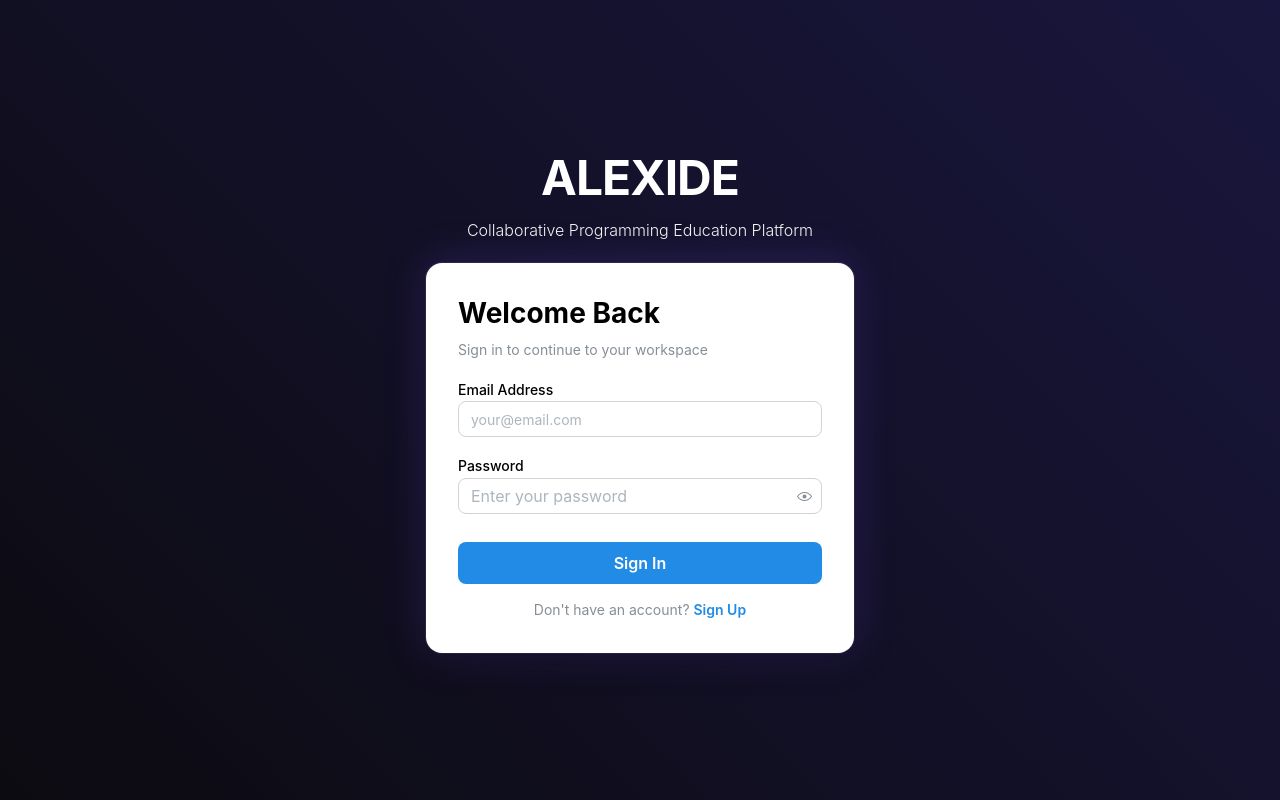
Authentication Component tests › should show error for empty email and password
What coordinates should you click on to do the following:
click the button "Sign In"
I would click on:
 (640, 563)
Its box is [458, 542, 822, 584].
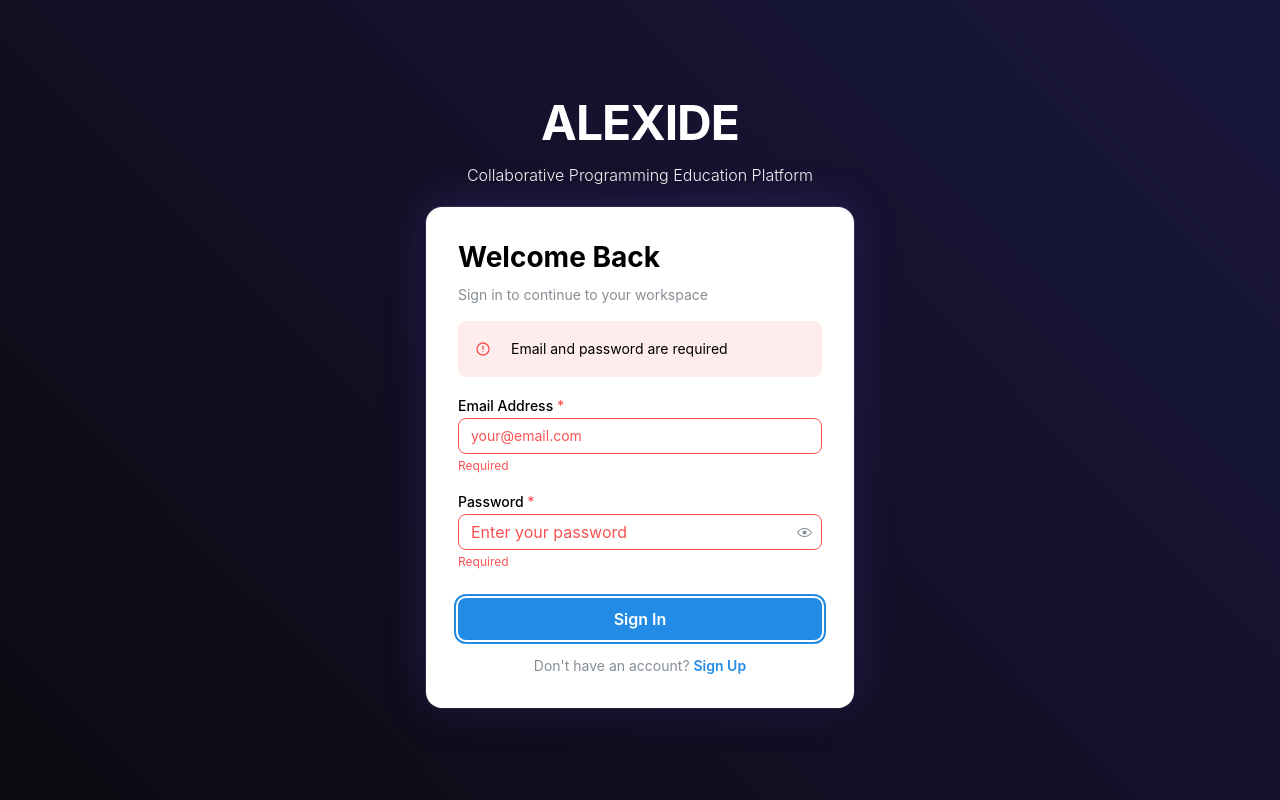
Expected: the text "Email and password are required" is shown, [511, 340, 728, 358]
